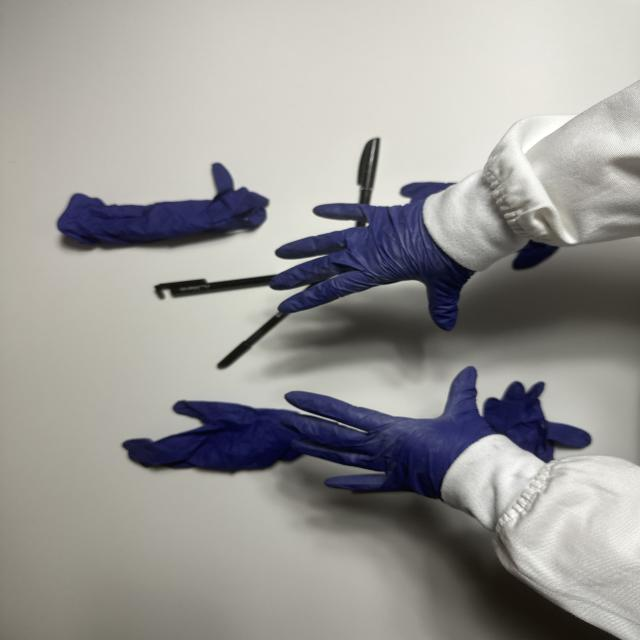gloves_contaminated: (283, 366, 497, 498), (271, 202, 474, 331)
